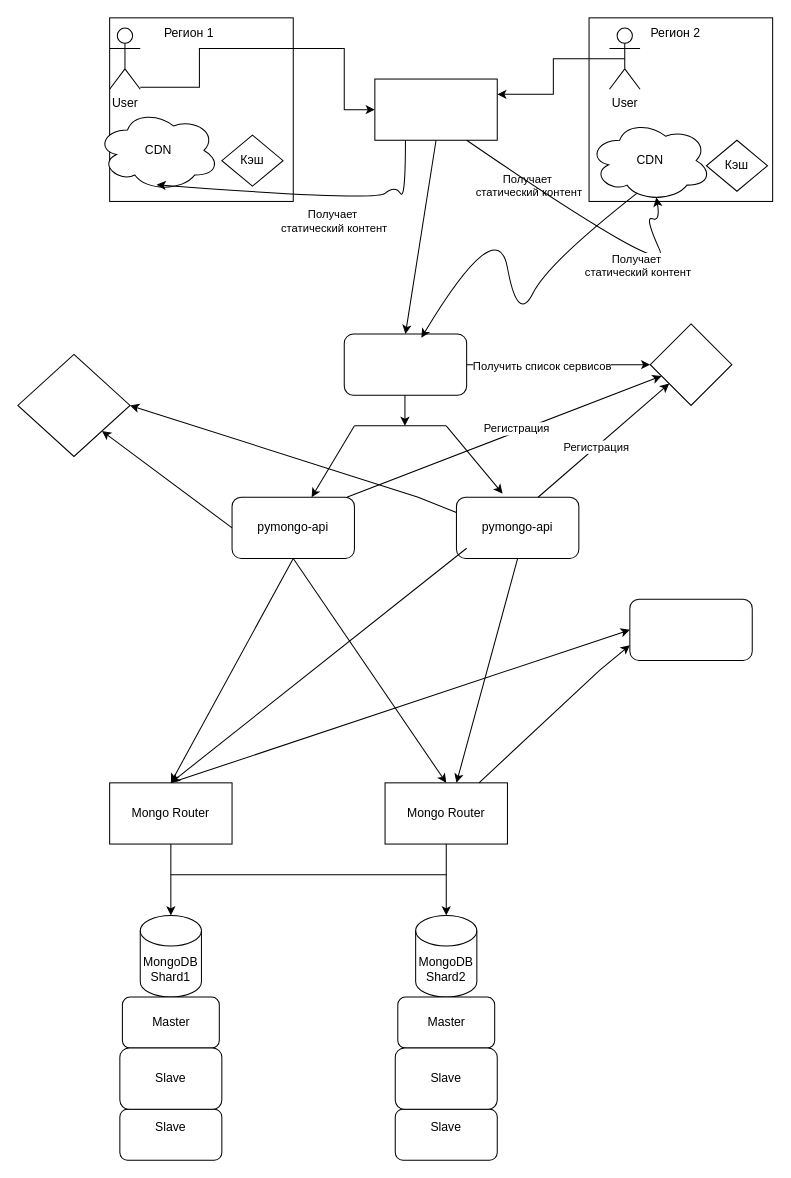
This 791x1178 diagram has some shape labels left out. The box of each missing label's shape, as (x1, y1, x2, y2) in pixels:
Api Gateway: (343, 333, 467, 395)
Consul: (649, 323, 732, 405)
Mongo Config Server Replica Set (3 pods): (629, 598, 752, 660)
Redis (standalone): (17, 353, 130, 456)
Сайт компании "Мобильный мир": (374, 78, 497, 140)
